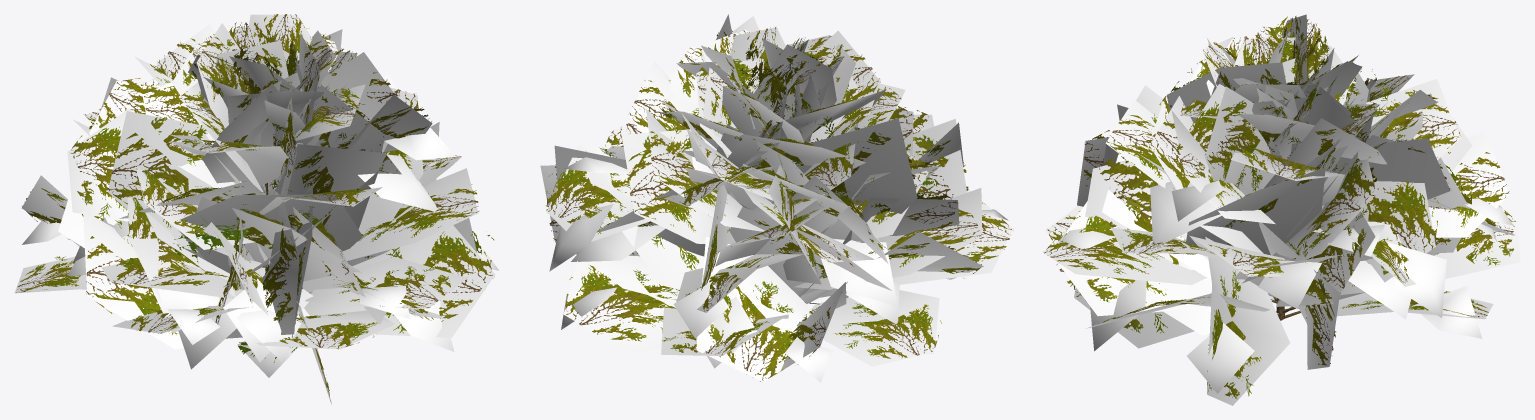
Rendered from cypressmop_small.glb.
3 renders of one model, left to right at view 1: azimuth 30°, elevation 25°; view 2: azimuth 150°, elevation 25°; view 3: azimuth 270°, elevation 25°, orthographic.
Visible parts, largest first — view 1: cypressmop_small; view 2: cypressmop_small; view 3: cypressmop_small.
Boxes of the visible parts, box(x1,y1,x2,y2) form: cypressmop_small: box(14, 14, 498, 404); cypressmop_small: box(540, 14, 1013, 382); cypressmop_small: box(1043, 14, 1520, 405).
Size of the model in its own units: 1.64 by 1.22 by 1.63.
3 materials, 2 textured.
